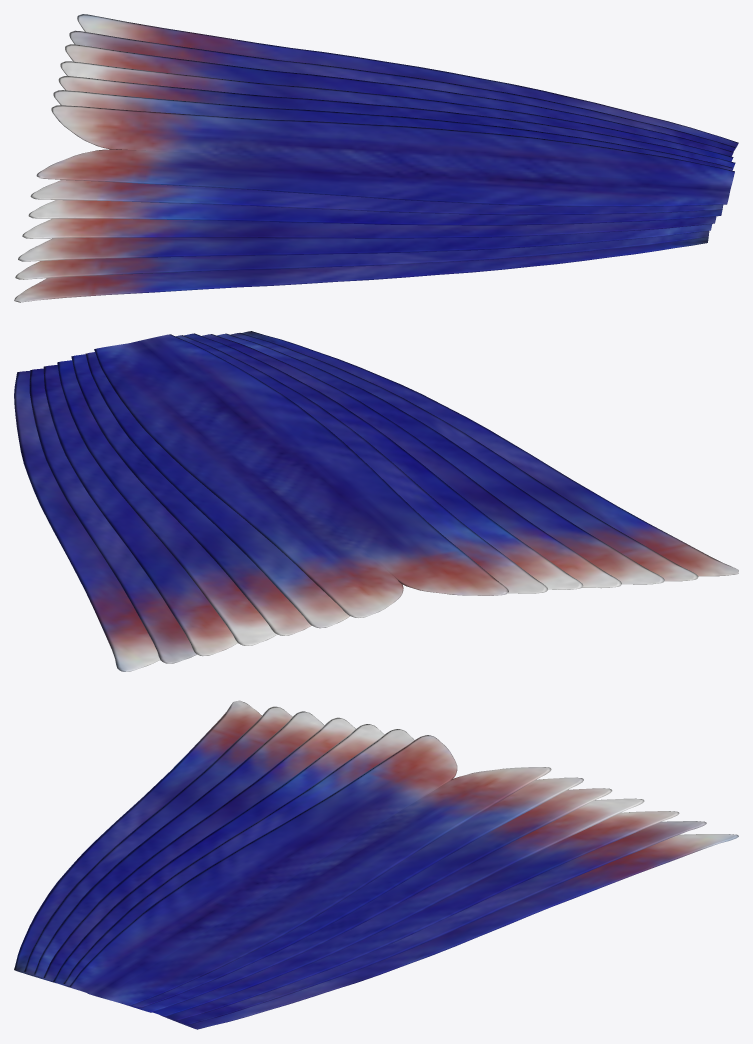
The model's file is ColitaPajaro.obj.
The picture shows the model from 3 angles, top to bottom: view 1: azimuth 30°, elevation 25°; view 2: azimuth 150°, elevation 25°; view 3: azimuth 270°, elevation 25°; orthographic projection. The views are drawn at different scales.
Parts seen in each view (by area): view 1: pajaro_azul.027; view 2: pajaro_azul.027; view 3: pajaro_azul.027.
Boxes of the visible parts, x1,y1,x2,y2 form: pajaro_azul.027: [14, 14, 738, 302]; pajaro_azul.027: [14, 331, 738, 671]; pajaro_azul.027: [14, 700, 738, 1029].
Size of the model in its own units: 12.41 by 0.5033 by 11.48.
1 material, 1 textured.
